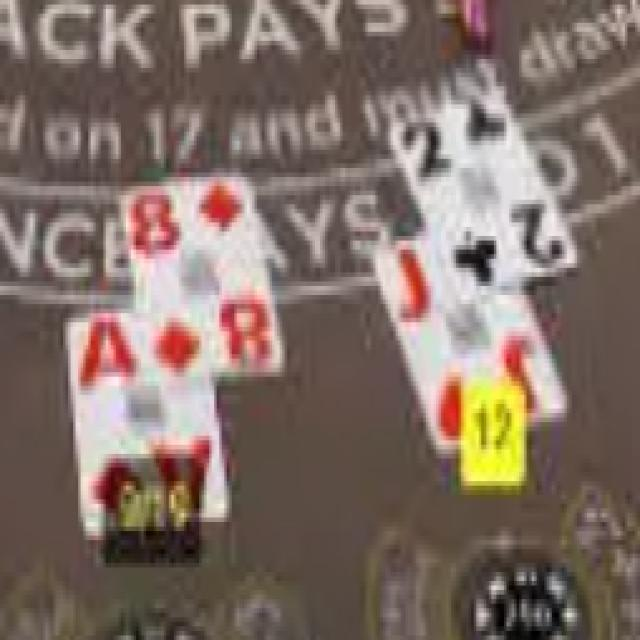Card-2: (390, 88, 579, 300)
Card-8: (124, 171, 286, 378)
Card-A: (69, 313, 229, 539)
Card-J: (375, 235, 571, 455)
